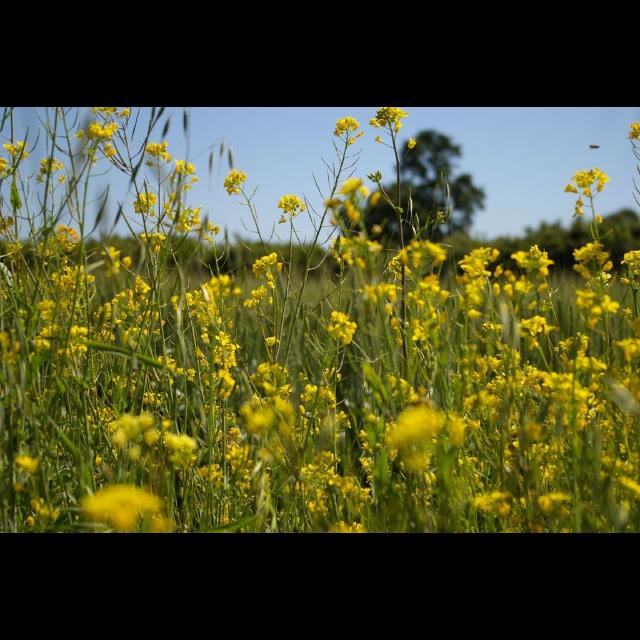Flower: (1, 108, 640, 532), (322, 306, 363, 348)
